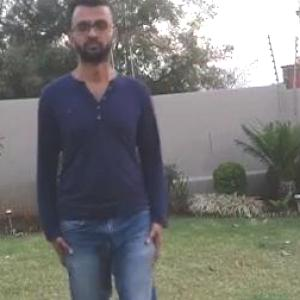follow: (36, 0, 171, 299)
